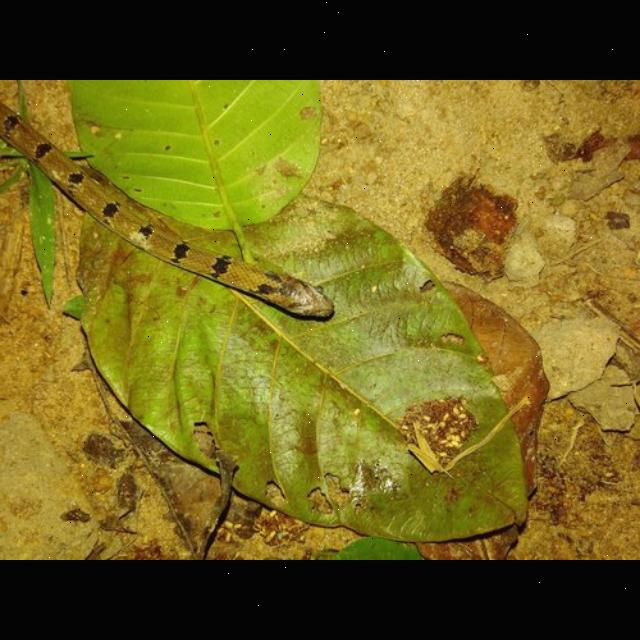snake: (0, 99, 338, 321)
